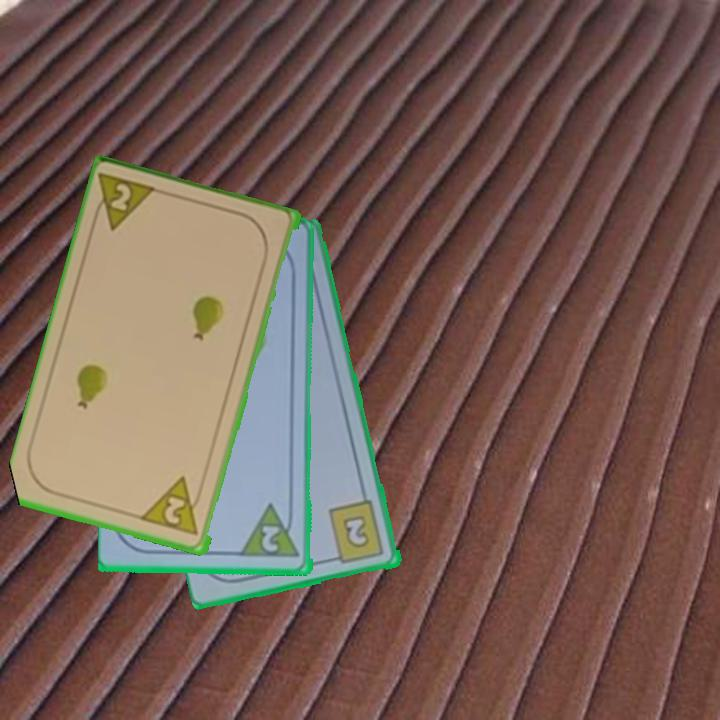2b: (325, 498, 388, 567)
2p: (88, 170, 163, 235), (140, 474, 205, 539), (239, 501, 303, 561)
